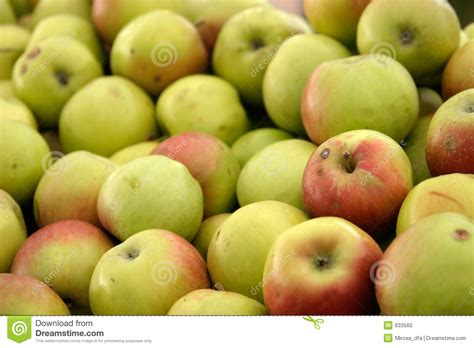apple: (300, 125, 416, 231), (96, 155, 206, 249)
